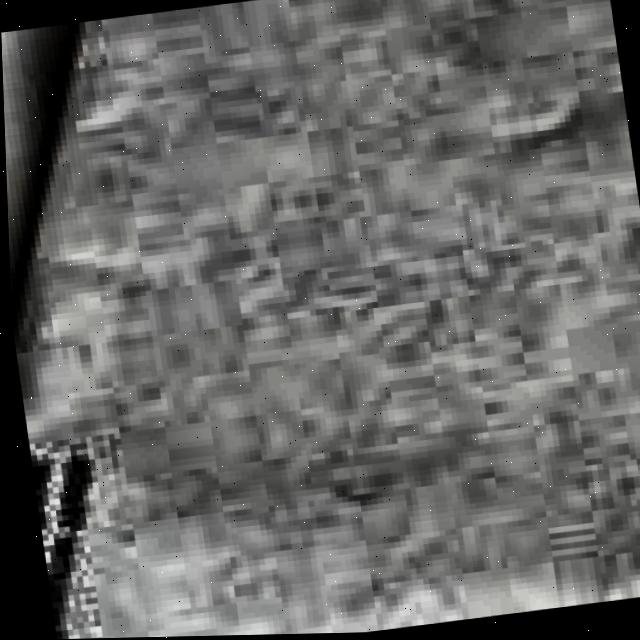paper: (15, 0, 640, 639)
